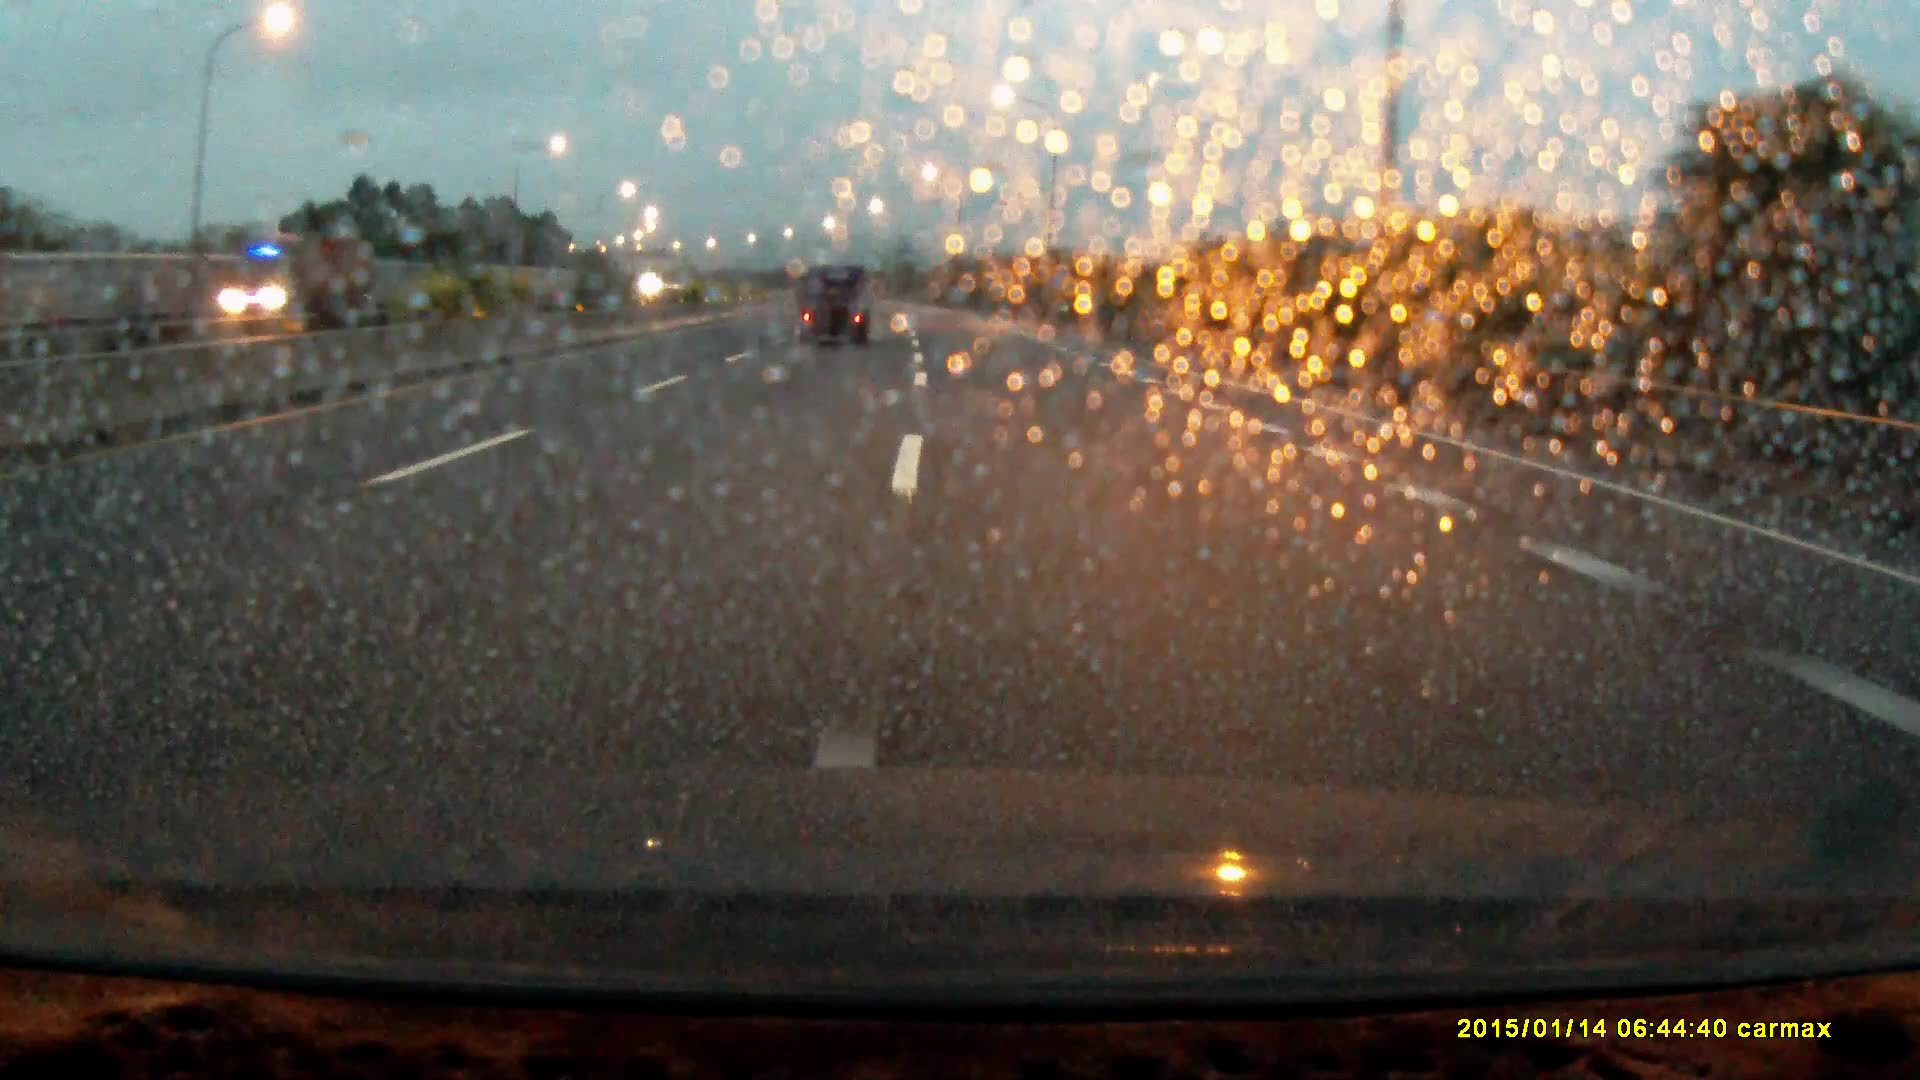vehicle: (214, 236, 372, 323), (794, 270, 872, 355)
